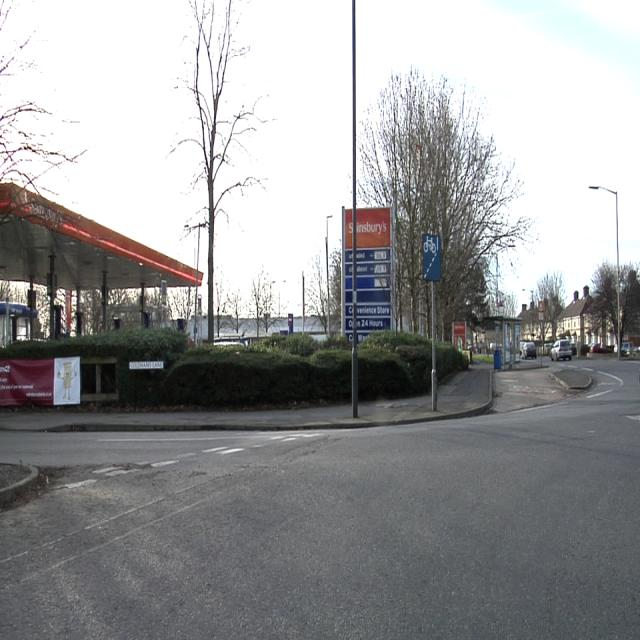Car: (551, 340, 571, 359), (522, 342, 535, 358), (589, 344, 607, 353), (621, 342, 631, 355)
Road: (0, 358, 640, 638), (4, 409, 638, 623)
Tree: (359, 67, 533, 323), (175, 1, 267, 211), (1, 2, 84, 196), (577, 260, 618, 343), (523, 270, 567, 342), (593, 260, 618, 342), (250, 263, 278, 331), (306, 244, 324, 327), (622, 262, 639, 338)
